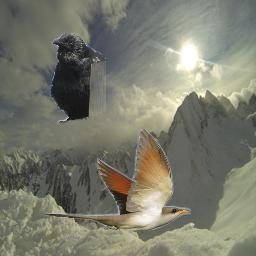Crow: (48, 32, 106, 124)
Cuckoo: (44, 129, 191, 231)
